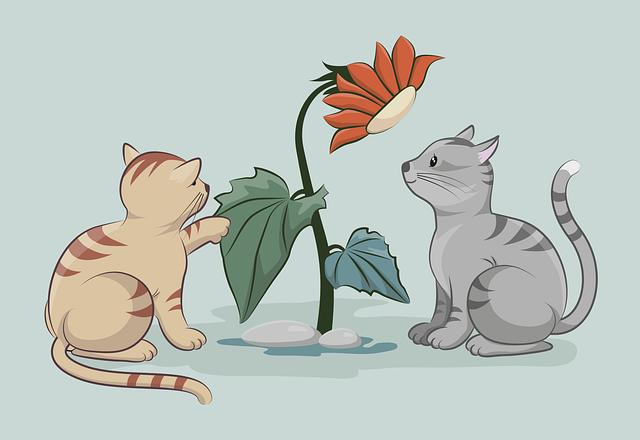Non_Gorille: (9, 5, 633, 438)
